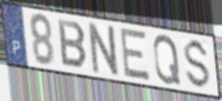8: (28, 12, 56, 68)
B: (56, 17, 89, 71)
E: (120, 26, 152, 83)
N: (88, 21, 122, 79)
Q: (151, 33, 182, 87)
S: (183, 38, 212, 91)
